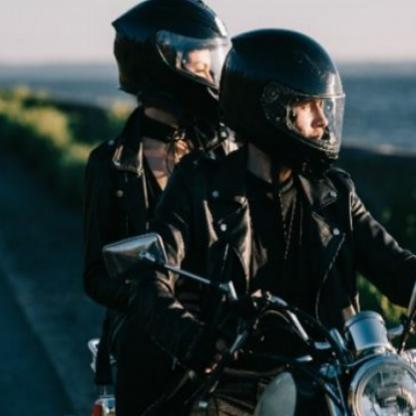helmet: (217, 27, 346, 185), (111, 0, 230, 128)
